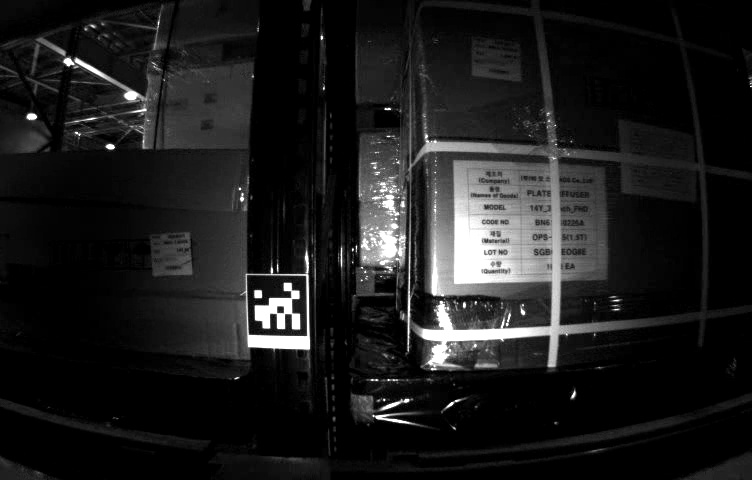True Barcode: (470, 33, 522, 83), (149, 233, 192, 278)
